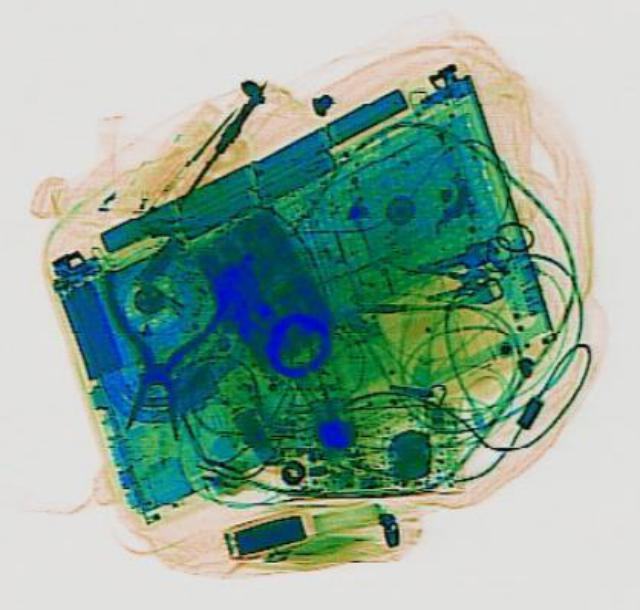Pliers: (86, 263, 224, 441)
